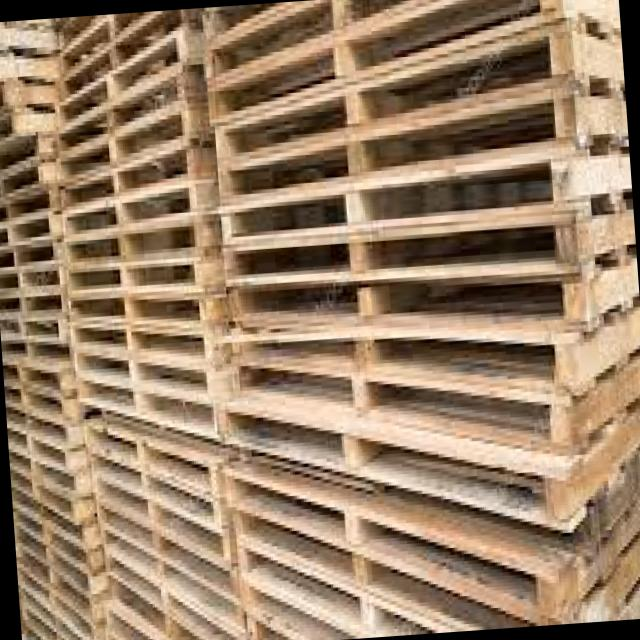Wooden-Pallets: (213, 400, 570, 547), (209, 75, 574, 201), (220, 259, 579, 331), (80, 424, 211, 489), (63, 256, 206, 305)
